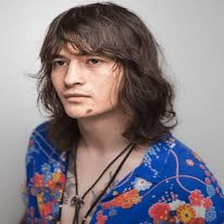no_mask: (47, 50, 120, 116)
